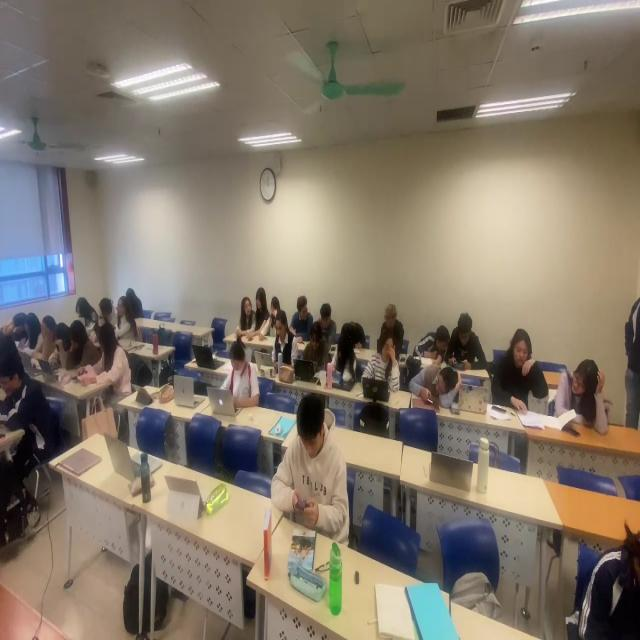raise_head: (375, 297, 405, 358), (115, 295, 137, 342)
read: (491, 324, 550, 415)
sleep: (408, 361, 464, 411)
using_computer: (2, 340, 65, 529), (221, 339, 262, 410), (266, 307, 300, 376), (67, 319, 99, 372), (302, 321, 330, 370), (50, 321, 71, 371), (76, 296, 99, 336), (99, 296, 118, 330)
using_phone: (269, 389, 352, 551), (75, 323, 133, 400), (446, 309, 489, 375), (316, 301, 339, 345)
